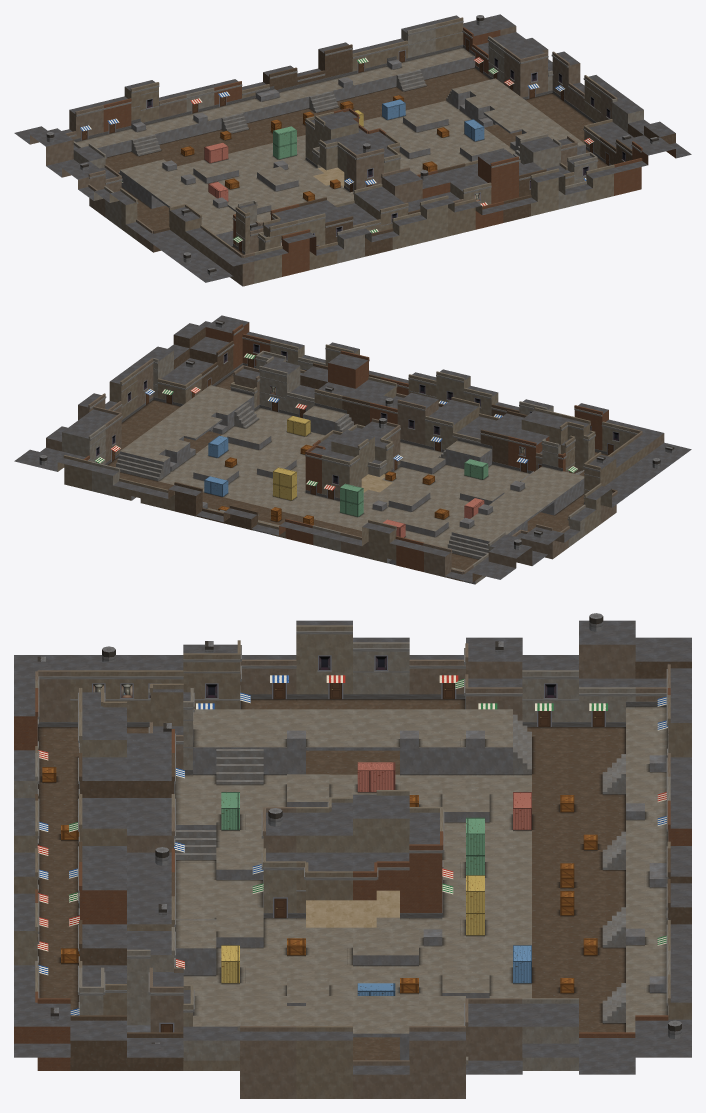
File: snipe.gltf
The picture shows the model from 3 angles, top to bottom: view 1: azimuth 30°, elevation 25°; view 2: azimuth 150°, elevation 25°; view 3: azimuth 270°, elevation 25°; orthographic projection. The views are drawn at different scales.
Parts seen in each view (by area): view 1: Quarter, Detail, Steps, Shadows, Windows; view 2: Quarter, Detail, Steps, Shadows, Windows; view 3: Quarter, Detail, Shadows, Steps, Windows.
Part boxes in pixels (left/top/right/bottom): Quarter: left=14, top=14, right=691, bottom=286; Detail: left=46, top=15, right=658, bottom=275; Steps: left=118, top=69, right=519, bottom=211; Shadows: left=76, top=47, right=607, bottom=254; Windows: left=146, top=57, right=625, bottom=245; Quarter: left=14, top=315, right=691, bottom=584; Detail: left=39, top=320, right=674, bottom=583; Steps: left=115, top=402, right=584, bottom=559; Shadows: left=108, top=373, right=607, bottom=559; Windows: left=96, top=343, right=619, bottom=485; Quarter: left=14, top=620, right=691, bottom=1098; Detail: left=35, top=613, right=681, bottom=1098; Shadows: left=38, top=699, right=667, bottom=1032; Steps: left=175, top=714, right=625, bottom=1023; Windows: left=37, top=655, right=668, bottom=1008.
Bounding box in the file's own units: 106 × 13.5 × 72.
Materials: 30 (29 with a texture image).
